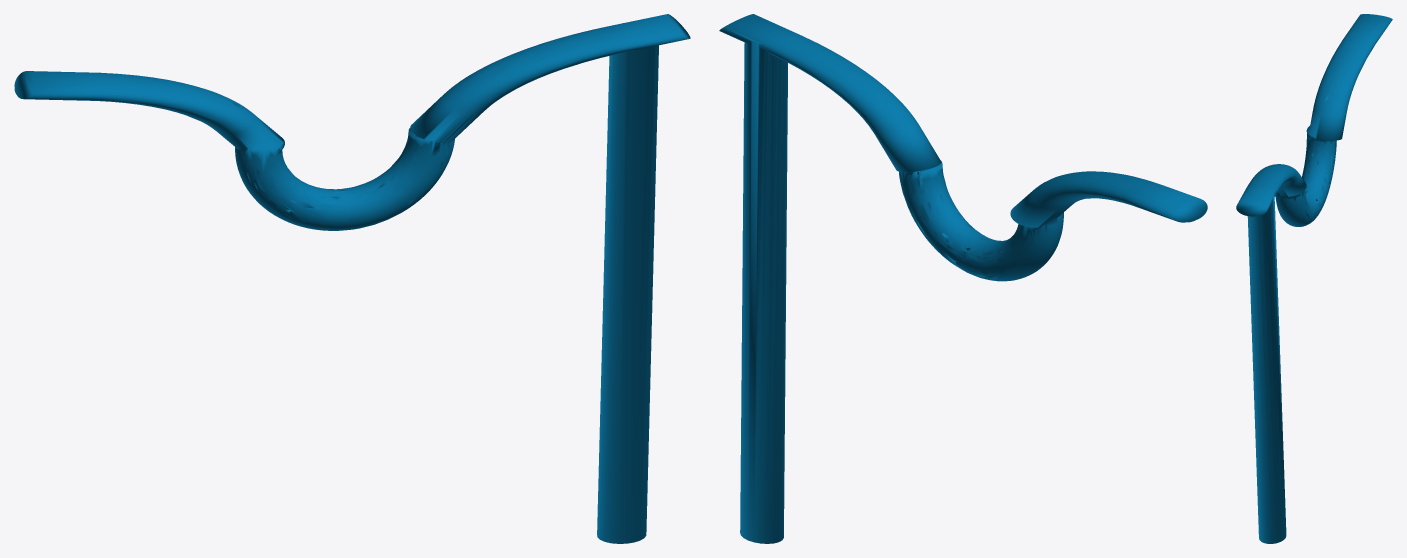
File: kapu.obj
3 renders of one model, left to right at view 1: azimuth 30°, elevation 25°; view 2: azimuth 150°, elevation 25°; view 3: azimuth 270°, elevation 25°, orthographic. The views are drawn at different scales.
Parts seen in each view (by area): view 1: obj_0.001; view 2: obj_0.001; view 3: obj_0.001.
Part boxes in pixels (box(x1,y1,x2,y2)): obj_0.001: box(14, 14, 690, 543); obj_0.001: box(719, 14, 1207, 543); obj_0.001: box(1236, 14, 1392, 543).
Size of the model in its own units: 66.76 by 58.08 by 23.22.
